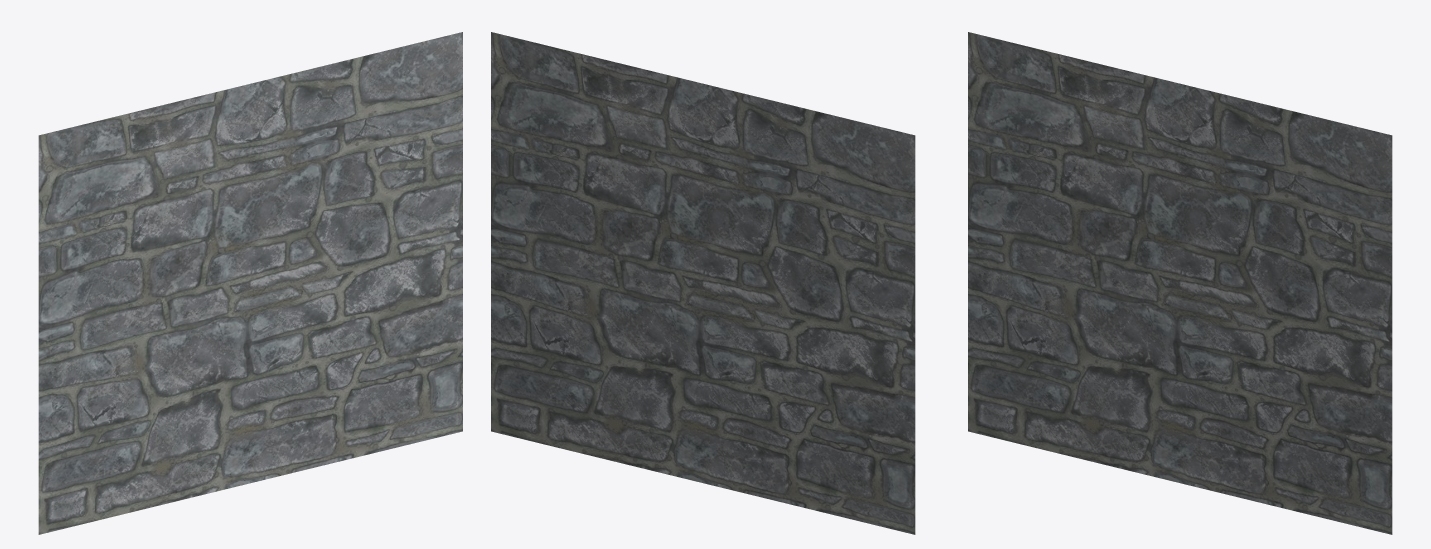
File: SM_Crypt_Wall.glb
3 views of the same model, side by side, from view 1: azimuth 30°, elevation 25°; view 2: azimuth 150°, elevation 25°; view 3: azimuth 330°, elevation 25° (orthographic).
Visible parts, largest first — view 1: SM_Crypt_Wall; view 2: SM_Crypt_Wall; view 3: SM_Crypt_Wall.
Part boxes in pixels (bbox=[...]): SM_Crypt_Wall: bbox=[38, 32, 462, 534]; SM_Crypt_Wall: bbox=[491, 32, 915, 534]; SM_Crypt_Wall: bbox=[968, 32, 1392, 534].
Size of the model in its own units: 5 by 4.5 by 0.5.
1 material, 1 textured.
